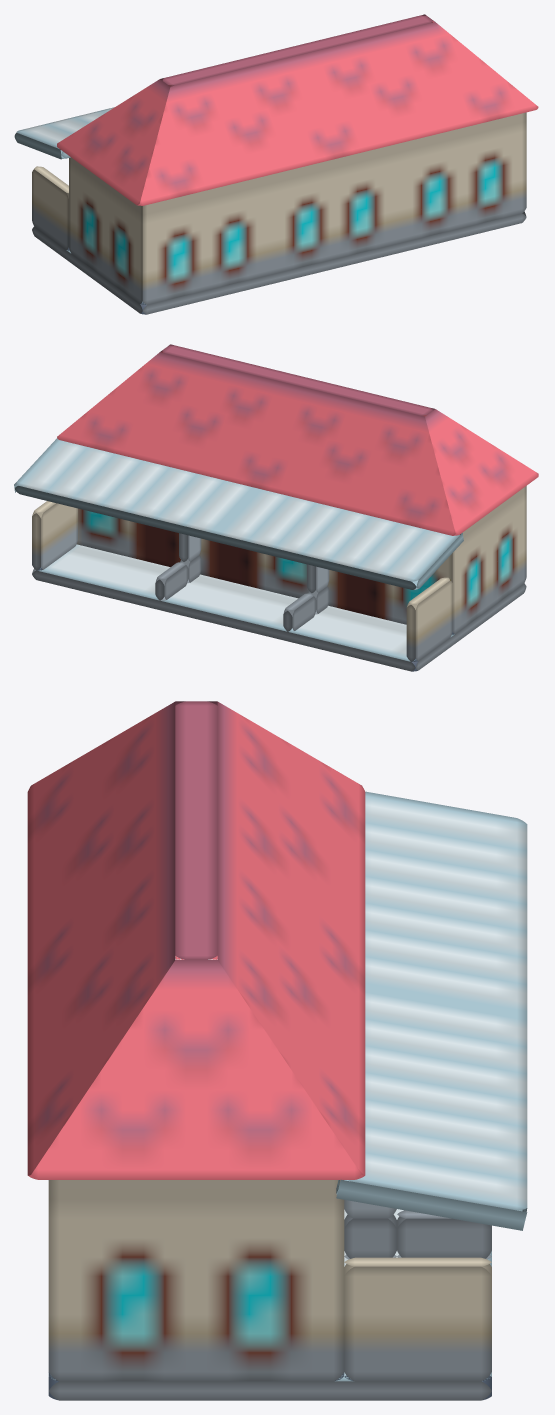
The model's file is Rumah_T3.fbx.
The picture shows the model from 3 angles, top to bottom: view 1: azimuth 30°, elevation 25°; view 2: azimuth 150°, elevation 25°; view 3: azimuth 270°, elevation 25°; orthographic projection. The views are drawn at different scales.
Parts seen in each view (by area): view 1: Atap, Bangunan, Lantai, Tembok, Asbes; view 2: Atap, Asbes, Bangunan, Lantai, Tembok, Sekat; view 3: Atap, Asbes, Bangunan, Tembok, Lantai, Sekat.
Part boxes in pixels (bbox=[...]): Atap: bbox=[57, 14, 538, 205]; Bangunan: bbox=[69, 112, 526, 304]; Lantai: bbox=[32, 211, 526, 314]; Tembok: bbox=[32, 166, 69, 250]; Asbes: bbox=[14, 107, 114, 159]; Atap: bbox=[57, 344, 538, 535]; Asbes: bbox=[14, 438, 463, 589]; Bangunan: bbox=[77, 486, 526, 634]; Lantai: bbox=[32, 544, 526, 671]; Tembok: bbox=[32, 501, 452, 661]; Sekat: bbox=[155, 533, 329, 631]; Atap: bbox=[27, 701, 365, 1179]; Asbes: bbox=[336, 791, 527, 1230]; Bangunan: bbox=[48, 956, 344, 1381]; Tembok: bbox=[344, 1257, 491, 1381]; Lantai: bbox=[48, 1209, 491, 1400]; Sekat: bbox=[344, 1200, 491, 1259].
Size of the model in its own units: 2200 by 1000 by 1184.
1 material, 1 textured.
